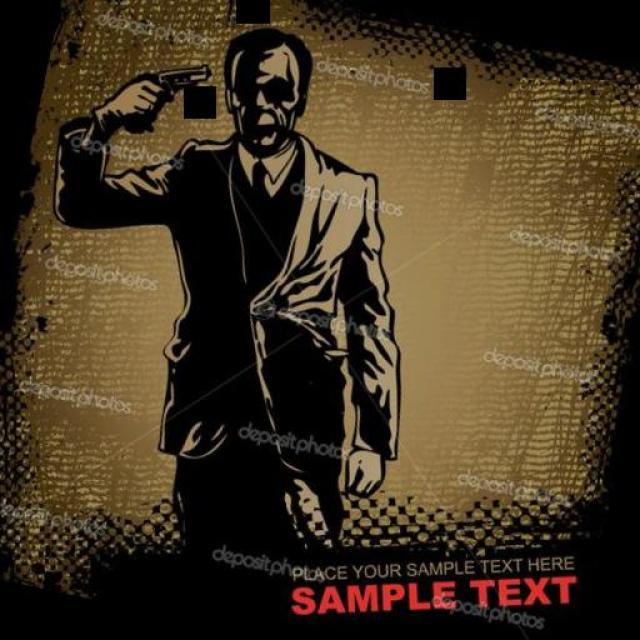gun: (90, 39, 214, 150)
